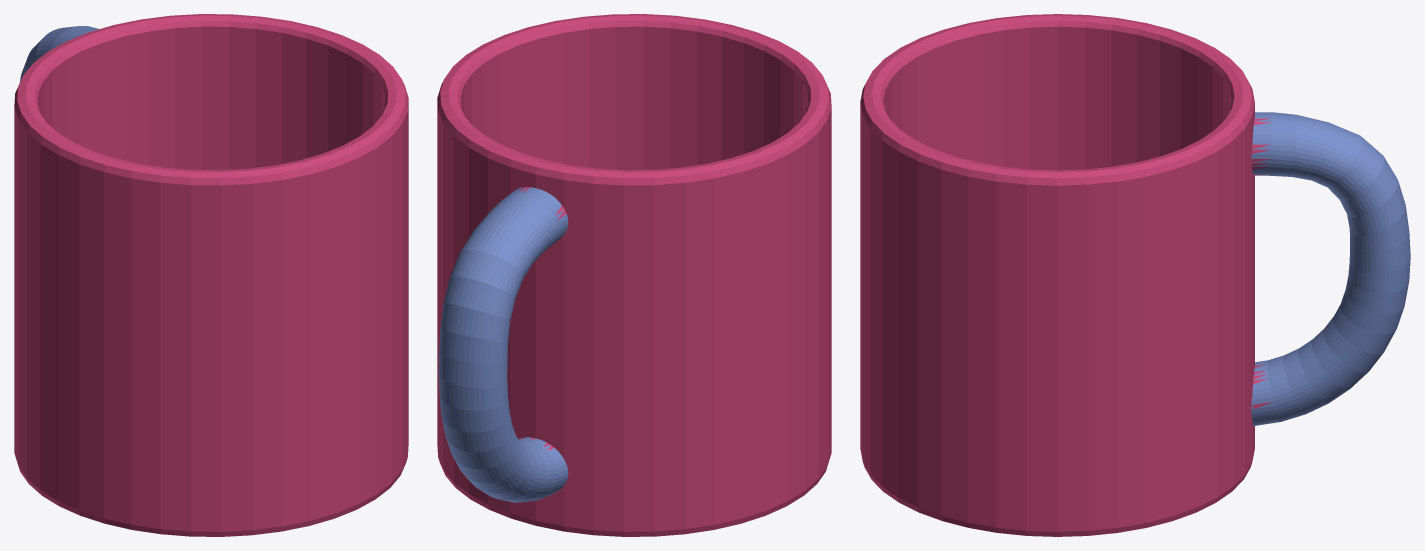
The picture shows the model from 3 angles, left to right: view 1: azimuth 30°, elevation 25°; view 2: azimuth 150°, elevation 25°; view 3: azimuth 270°, elevation 25°; orthographic projection.
Visible parts, largest first — view 1: world; view 2: world; view 3: world.
Part boxes in pixels (x1=…): world: x1=14, y1=14, x2=408, y2=536; world: x1=437, y1=14, x2=831, y2=536; world: x1=860, y1=14, x2=1410, y2=536.
Size of the model in its own units: 1.98 by 2 by 2.75.
